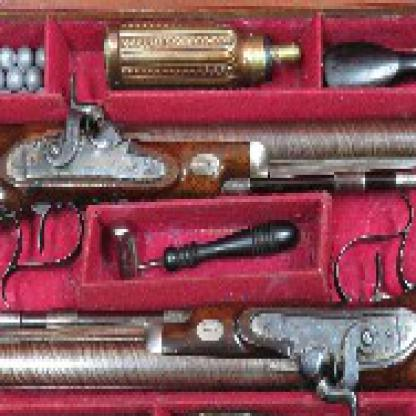gun: (0, 139, 414, 413), (0, 106, 414, 352)
